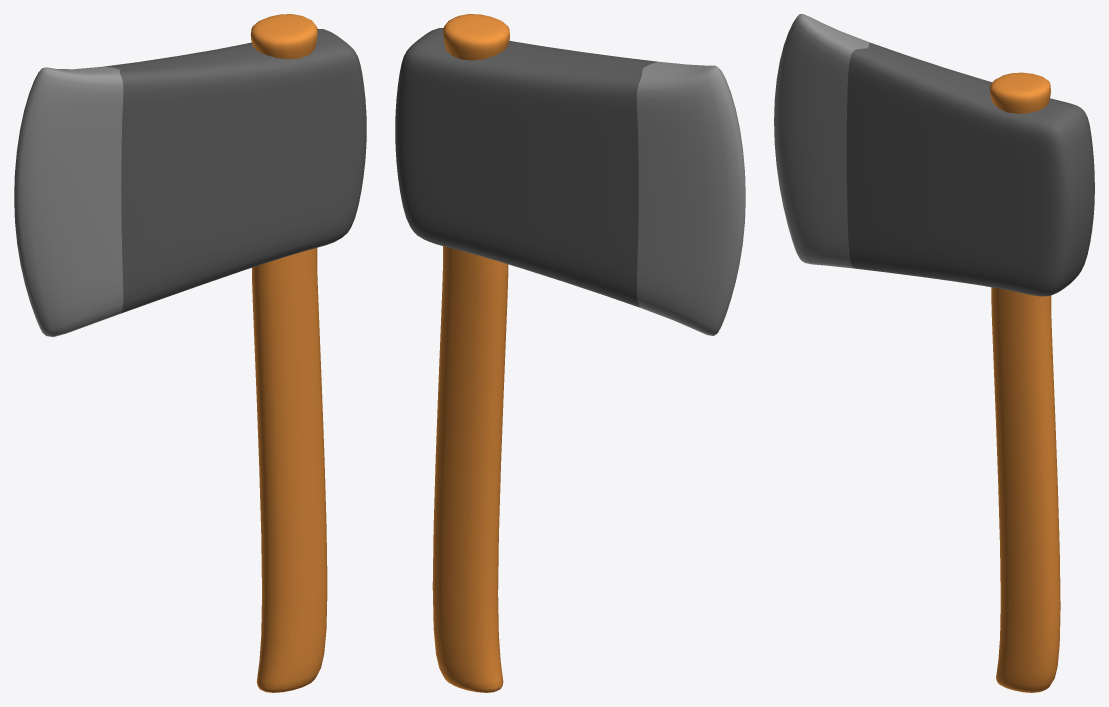
File: Chopper02.fbx
The picture shows the model from 3 angles, left to right: view 1: azimuth 30°, elevation 25°; view 2: azimuth 150°, elevation 25°; view 3: azimuth 330°, elevation 25°; orthographic projection. The views are drawn at different scales.
Visible parts, largest first — view 1: Cube.130, Cube.131, Cube.132; view 2: Cube.130, Cube.131, Cube.132; view 3: Cube.130, Cube.131, Cube.132.
Part boxes in pixels (<box>): Cube.130: <box>14,29,366,336</box>; Cube.131: <box>252,248,327,692</box>; Cube.132: <box>250,14,317,59</box>; Cube.130: <box>395,28,745,335</box>; Cube.131: <box>432,246,508,692</box>; Cube.132: <box>443,14,509,60</box>; Cube.130: <box>774,14,1094,296</box>; Cube.131: <box>991,287,1060,692</box>; Cube.132: <box>989,72,1050,113</box>.
Bounding box in the file's own units: 42.25 × 80.1 × 8.46.
